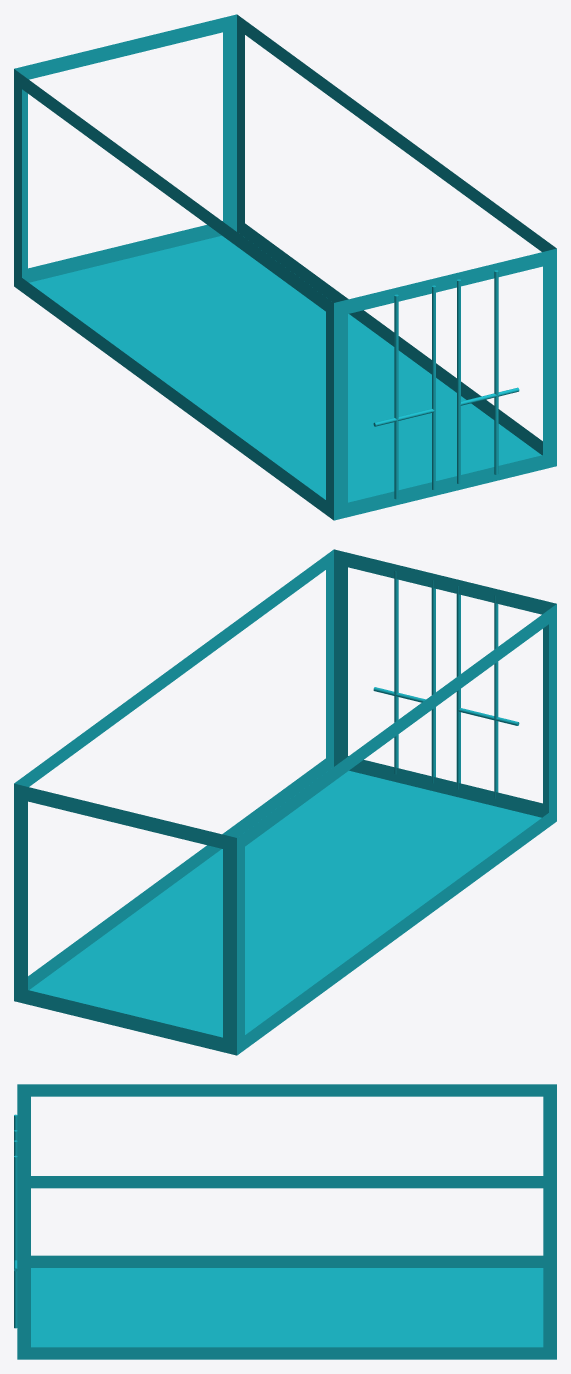
File: Stoles 20DV.dae
3 renders of one model, top to bottom at view 1: azimuth 30°, elevation 25°; view 2: azimuth 150°, elevation 25°; view 3: azimuth 270°, elevation 25°, orthographic. The views are drawn at different scales.
Parts seen in each view (by area): view 1: group_8, group_4, group_7, group_2, group_5; view 2: group_8, group_4, group_2, group_5, group_7; view 3: group_8, group_4.
Boxes of the visible parts, x1=… form: group_8: x1=14, y1=14, x2=556, y2=520; group_4: x1=494, y1=270, x2=498, y2=474; group_7: x1=394, y1=294, x2=398, y2=499; group_2: x1=457, y1=279, x2=460, y2=483; group_5: x1=432, y1=285, x2=435, y2=489; group_8: x1=14, y1=549, x2=556, y2=1055; group_4: x1=394, y1=571, x2=398, y2=774; group_2: x1=431, y1=580, x2=435, y2=783; group_5: x1=456, y1=586, x2=460, y2=789; group_7: x1=494, y1=595, x2=498, y2=798; group_8: x1=17, y1=1084, x2=556, y2=1359; group_4: x1=14, y1=1155, x2=17, y2=1328.
Bounding box in the file's own units: 96 × 240 × 89.52.
